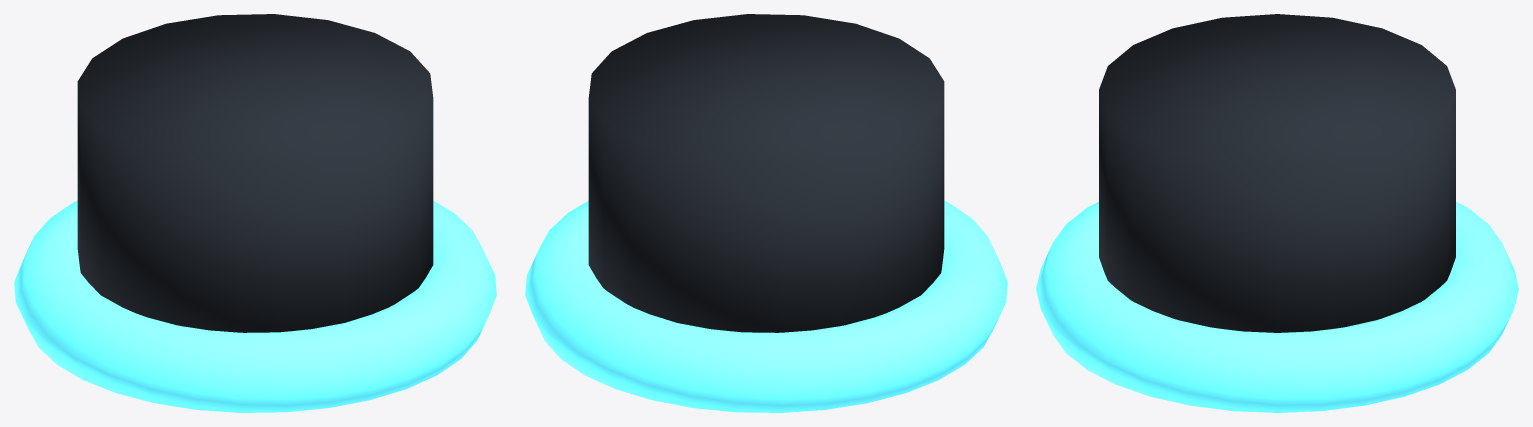
File: 06_L94_MicroscopeLensAndRingLight.glb
3 renders of one model, left to right at view 1: azimuth 30°, elevation 25°; view 2: azimuth 150°, elevation 25°; view 3: azimuth 270°, elevation 25°, orthographic.
Parts seen in each view (by area): view 1: L94_MicroscopeLensAndRingLigh_Part_0000, L94_MicroscopeLensAndRingLigh_Part_0002; view 2: L94_MicroscopeLensAndRingLigh_Part_0000, L94_MicroscopeLensAndRingLigh_Part_0002; view 3: L94_MicroscopeLensAndRingLigh_Part_0000, L94_MicroscopeLensAndRingLigh_Part_0002.
Part boxes in pixels (bbox=[...]): L94_MicroscopeLensAndRingLigh_Part_0000: bbox=[77, 14, 433, 332]; L94_MicroscopeLensAndRingLigh_Part_0002: bbox=[14, 200, 496, 412]; L94_MicroscopeLensAndRingLigh_Part_0000: bbox=[588, 14, 944, 332]; L94_MicroscopeLensAndRingLigh_Part_0002: bbox=[525, 200, 1007, 412]; L94_MicroscopeLensAndRingLigh_Part_0000: bbox=[1099, 14, 1455, 332]; L94_MicroscopeLensAndRingLigh_Part_0002: bbox=[1036, 201, 1518, 412].
Bounding box in the file's own units: 0.406 × 0.221 × 0.406.
